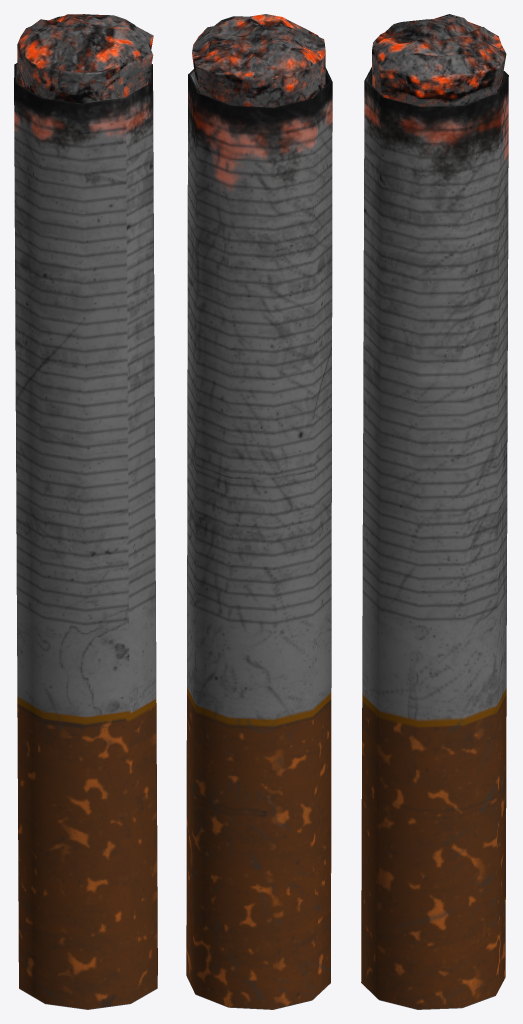
File: cigarette.glb
3 views of the same model, side by side, from view 1: azimuth 30°, elevation 25°; view 2: azimuth 150°, elevation 25°; view 3: azimuth 270°, elevation 25° (orthographic).
Visible parts, largest first — view 1: Object_2; view 2: Object_2; view 3: Object_2.
Part boxes in pixels (x1,y1,x2,y2): Object_2: (14,14,157,1009); Object_2: (186,14,332,1009); Object_2: (361,14,508,1009).
Bounding box in the file's own units: 0.0115 × 0.0827 × 0.0116.
1 material, 1 textured.
